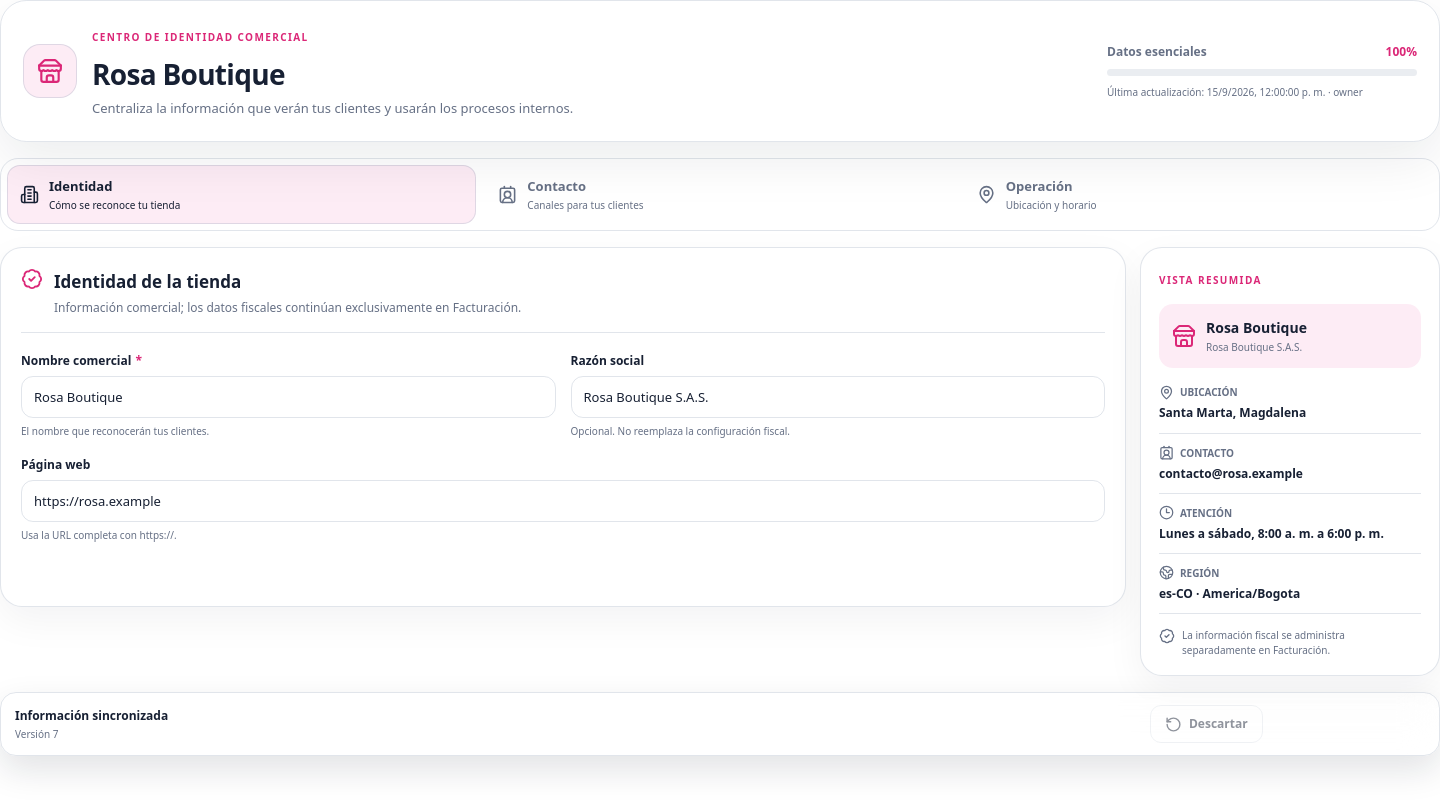
Test: EmpresaSection › organiza Tienda en tres secciones compactas sin mezclar datos fiscales
Expected: the heading "Identidad de la tienda" is shown, [54, 270, 241, 293]
Expected: the text "Canales de contacto" is not shown
Step 1. Click the button "Contacto Canales para tus clientes" → x=557, y=186, box [485, 164, 955, 224]
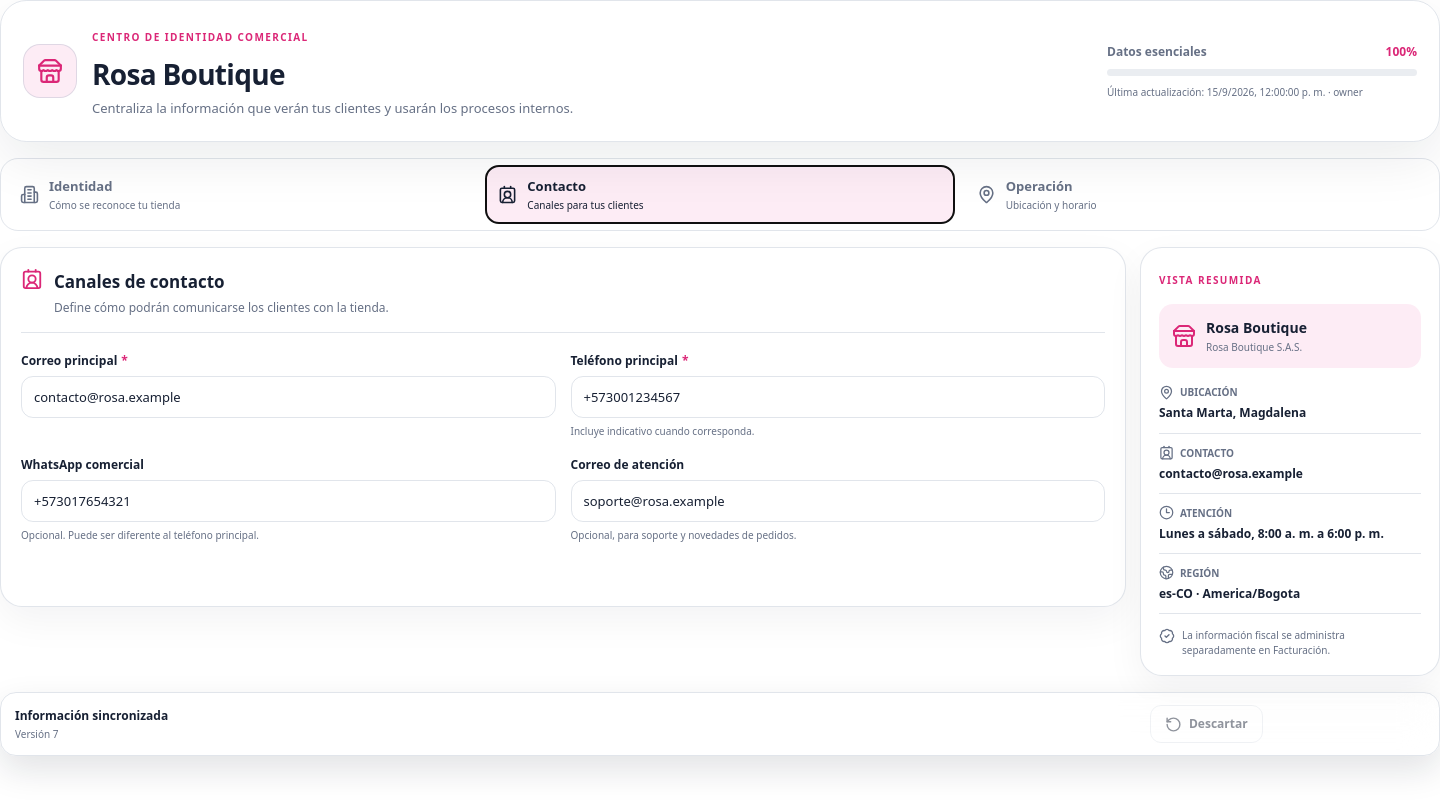
Expected: the heading "Canales de contacto" is shown, [54, 270, 225, 293]
Expected: the heading "Identidad de la tienda" is gone
Step 2. Click the button "Operación Ubicación y horario" → x=1039, y=186, box [964, 164, 1433, 224]
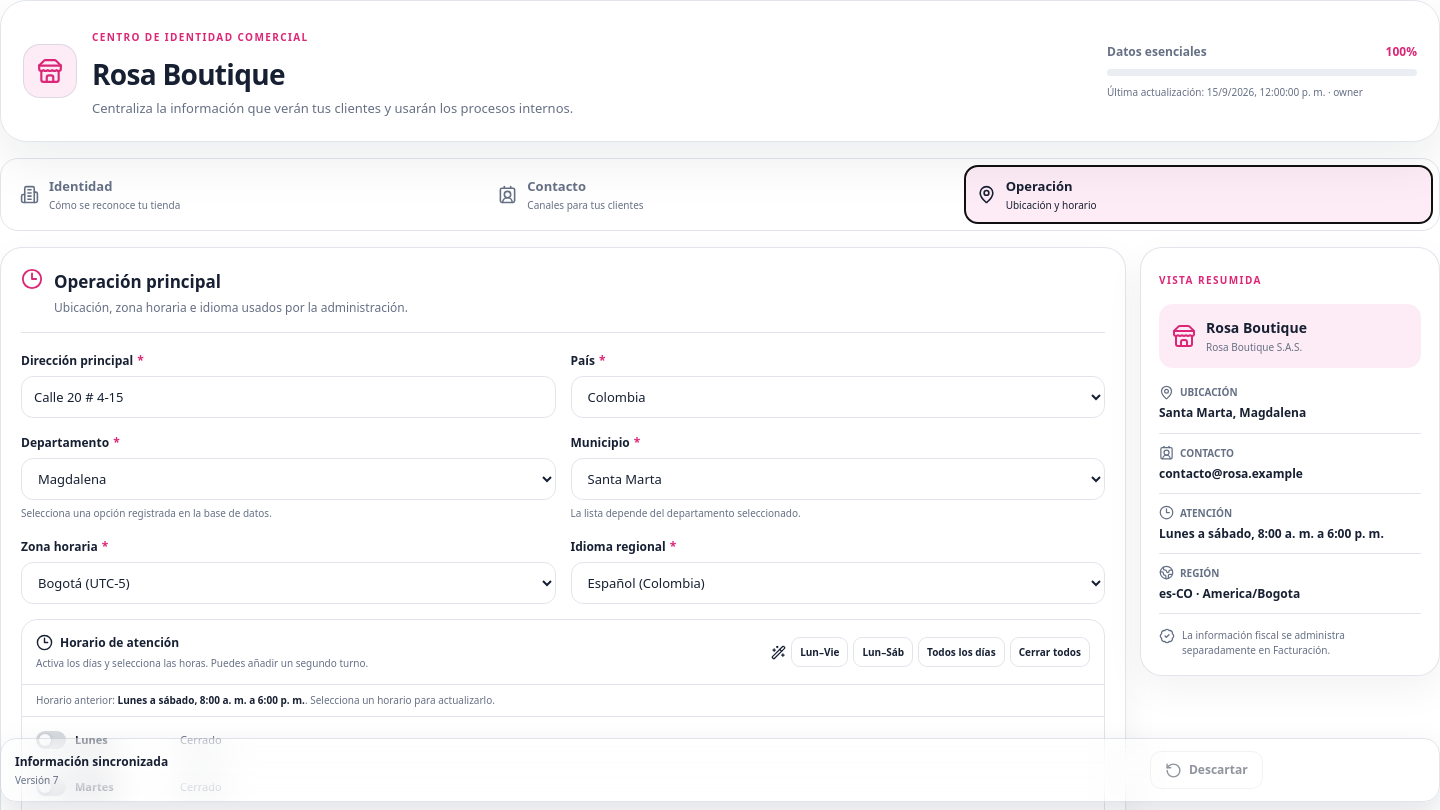
Expected: the heading "Operación principal" is shown, [54, 270, 221, 293]
Expected: the dropdown labelled "Zona horaria*" shows "Bogotá (UTC-5)", [21, 562, 556, 604]
